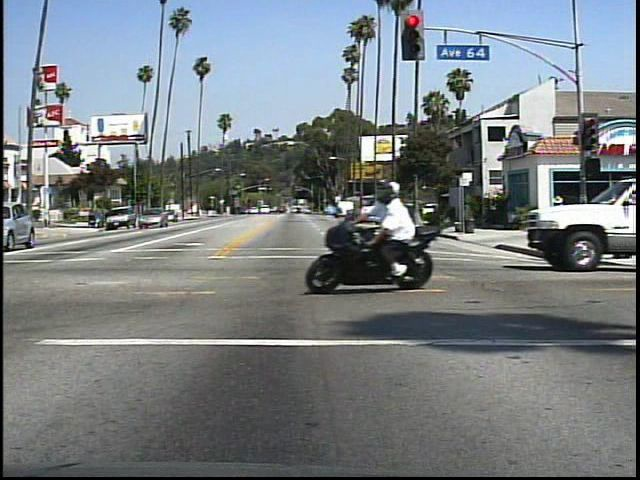person: (361, 176, 433, 284), (548, 192, 574, 211)
